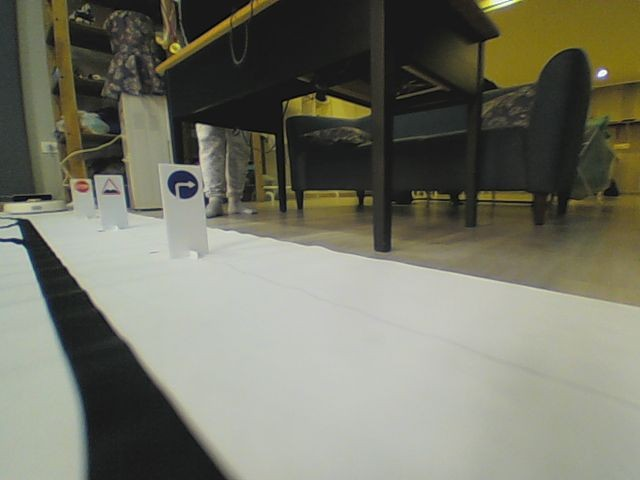Nerov: (100, 177, 120, 196)
Right: (166, 169, 199, 199)
